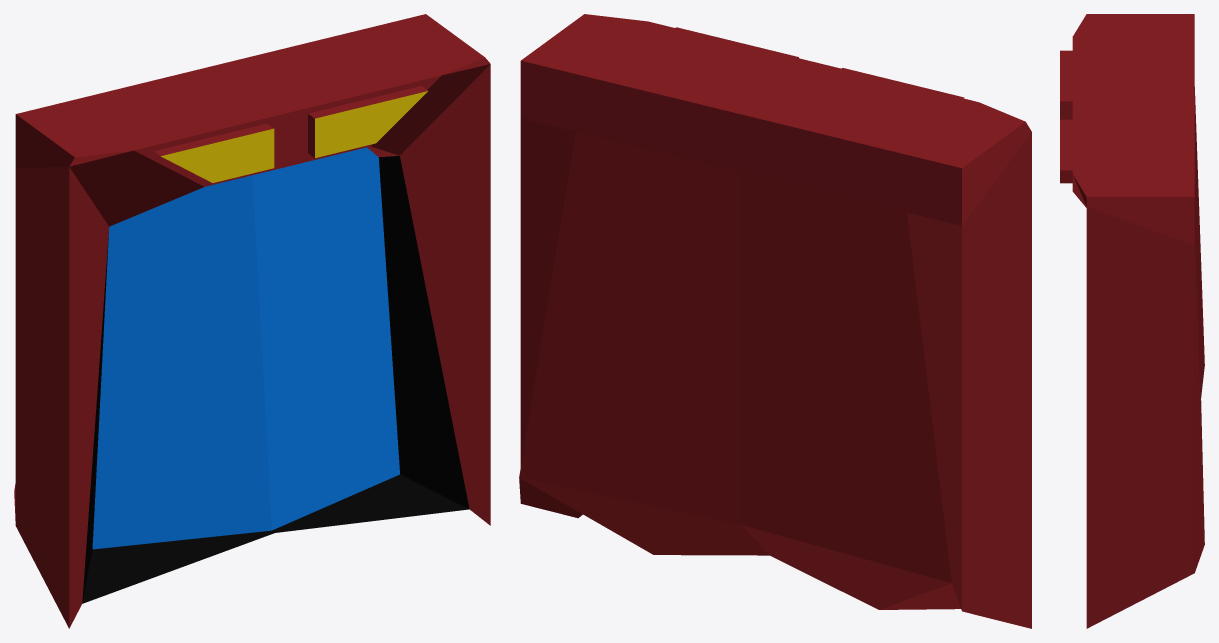
File: WallPanel_01.fbx
The picture shows the model from 3 angles, left to right: view 1: azimuth 30°, elevation 25°; view 2: azimuth 150°, elevation 25°; view 3: azimuth 270°, elevation 25°; orthographic projection. The views are drawn at different scales.
Parts seen in each view (by area): view 1: Cube.017; view 2: Cube.017; view 3: Cube.017.
Part boxes in pixels (left/top/right/bottom): Cube.017: left=14, top=14, right=490, bottom=628; Cube.017: left=519, top=14, right=1031, bottom=628; Cube.017: left=1060, top=14, right=1204, bottom=628.
Bounding box in the file's own units: 822 × 876 × 268.
